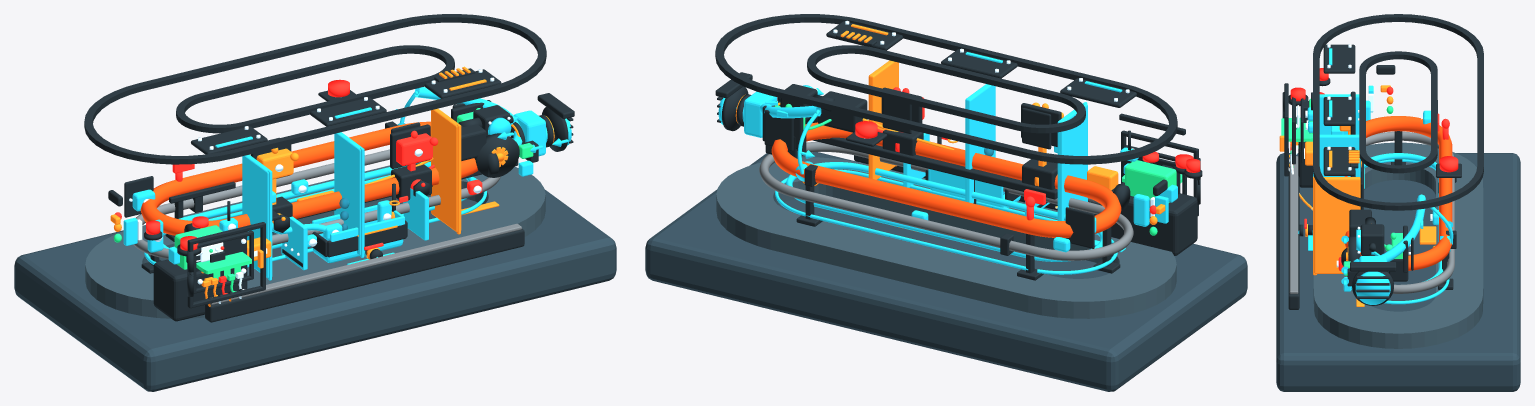
The model's file is utility-tunnel.glb.
The picture shows the model from 3 angles, left to right: view 1: azimuth 30°, elevation 25°; view 2: azimuth 150°, elevation 25°; view 3: azimuth 270°, elevation 25°; orthographic projection. The views are drawn at different scales.
Parts seen in each view (by area): view 1: MESH_BASE_01, MESH_RING_FLOOR, MESH_RING_OUTER_RAIL, MESH_PIPE_G01, MESH_CABLE_DUCT_01, MESH_RING_INNER_RAIL, MESH_PIPE_UTILITY_01, GEO_ZONE_C_RIB, MESH_CTRL_DRY_BAY, GEO_ZONE_B_RIB, GEO_CABLE_DUCT_COVER, GEO_ZONE_A_RIB (+20 smaller); view 2: MESH_BASE_01, MESH_RING_FLOOR, MESH_PIPE_G01, MESH_RING_OUTER_RAIL, MESH_PIPE_UTILITY_01, MESH_RING_INNER_RAIL, MESH_PIPE_UTILITY_02, MESH_CTRL_DRY_BAY, MESH_GAS_SENSOR_RAIL_C01, MESH_LED_RING, GEO_ZONE_A_RIB, GEO_ZONE_B_RIB (+18 smaller); view 3: MESH_BASE_01, MESH_RING_FLOOR, MESH_RING_OUTER_RAIL, GEO_ZONE_C_RIB, MESH_PIPE_G01, MESH_RING_INNER_RAIL, MESH_PIPE_UTILITY_01, GEO_CABLE_DUCT_COVER, MESH_ROOF_HATCH_A, MESH_ROOF_HATCH_B, GEO_ZONE_B_RIB, MESH_ROOF_HATCH_C (+20 smaller).
Part boxes in pixels (bbox=[...]): MESH_BASE_01: bbox=[14, 189, 616, 391]; MESH_RING_FLOOR: bbox=[85, 161, 545, 318]; MESH_RING_OUTER_RAIL: bbox=[84, 14, 546, 164]; MESH_PIPE_G01: bbox=[140, 121, 477, 235]; MESH_CABLE_DUCT_01: bbox=[205, 229, 524, 322]; MESH_RING_INNER_RAIL: bbox=[176, 45, 454, 133]; MESH_PIPE_UTILITY_01: bbox=[133, 149, 500, 258]; GEO_ZONE_C_RIB: bbox=[431, 108, 461, 232]; MESH_CTRL_DRY_BAY: bbox=[153, 259, 247, 321]; GEO_ZONE_B_RIB: bbox=[334, 132, 364, 255]; GEO_CABLE_DUCT_COVER: bbox=[210, 223, 521, 304]; GEO_ZONE_A_RIB: bbox=[242, 154, 272, 278]; MESH_BASE_01: bbox=[645, 152, 1247, 391]; MESH_RING_FLOOR: bbox=[716, 157, 1176, 318]; MESH_PIPE_G01: bbox=[771, 122, 1121, 237]; MESH_RING_OUTER_RAIL: bbox=[715, 14, 1177, 164]; MESH_PIPE_UTILITY_01: bbox=[759, 141, 1133, 260]; MESH_RING_INNER_RAIL: bbox=[807, 45, 1085, 133]; MESH_PIPE_UTILITY_02: bbox=[786, 162, 1102, 261]; MESH_CTRL_DRY_BAY: bbox=[1111, 182, 1197, 255]; MESH_GAS_SENSOR_RAIL_C01: bbox=[813, 137, 1057, 199]; MESH_LED_RING: bbox=[775, 169, 1117, 274]; GEO_ZONE_A_RIB: bbox=[1057, 103, 1087, 220]; GEO_ZONE_B_RIB: bbox=[965, 84, 995, 203]; MESH_BASE_01: bbox=[1276, 153, 1520, 391]; MESH_RING_FLOOR: bbox=[1313, 142, 1483, 348]; MESH_RING_OUTER_RAIL: bbox=[1313, 14, 1483, 210]; GEO_ZONE_C_RIB: bbox=[1314, 177, 1360, 273]; MESH_PIPE_G01: bbox=[1345, 116, 1452, 270]; MESH_RING_INNER_RAIL: bbox=[1359, 51, 1437, 173]; MESH_PIPE_UTILITY_01: bbox=[1346, 131, 1454, 293]; GEO_CABLE_DUCT_COVER: bbox=[1289, 156, 1298, 293]; MESH_ROOF_HATCH_A: bbox=[1323, 44, 1355, 73]; MESH_ROOF_HATCH_B: bbox=[1323, 97, 1355, 125]; GEO_ZONE_B_RIB: bbox=[1319, 134, 1360, 177]; MESH_ROOF_HATCH_C: bbox=[1323, 147, 1355, 175].
Size of what is drawn, in the model's own units: 1 by 0.42 by 0.5.
